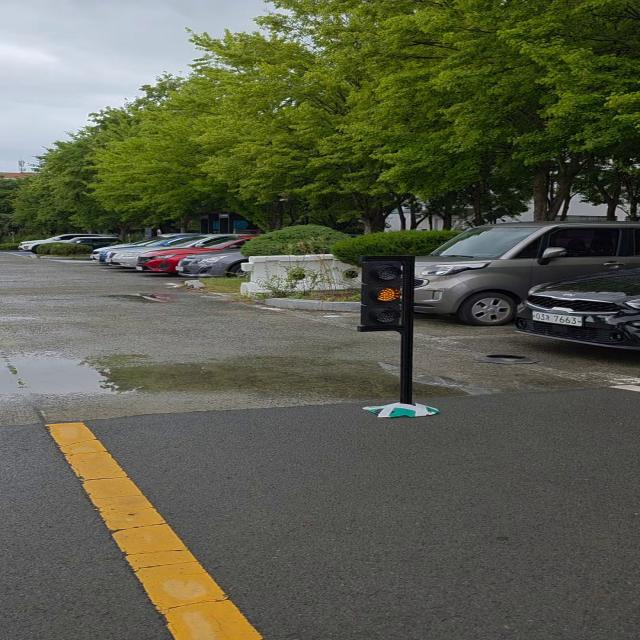yellow: (361, 257, 415, 331)
